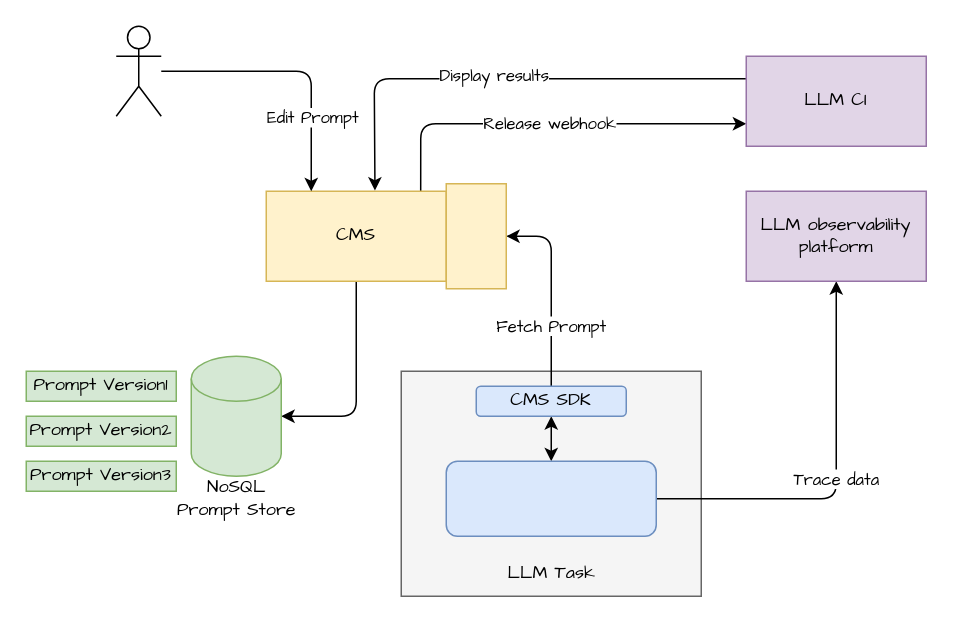
Image size: 953x623. Some labels were removed from this diagram. The shapes that lost their labels are listed below. From the top down, each one's box as (x1, y1, x2, y2) in pixels, then its label:
(115, 25, 161, 116): Prompt Engineer
(445, 182, 506, 289): Gray A/B Plugin
(445, 460, 656, 536): Observed LLM SDK
